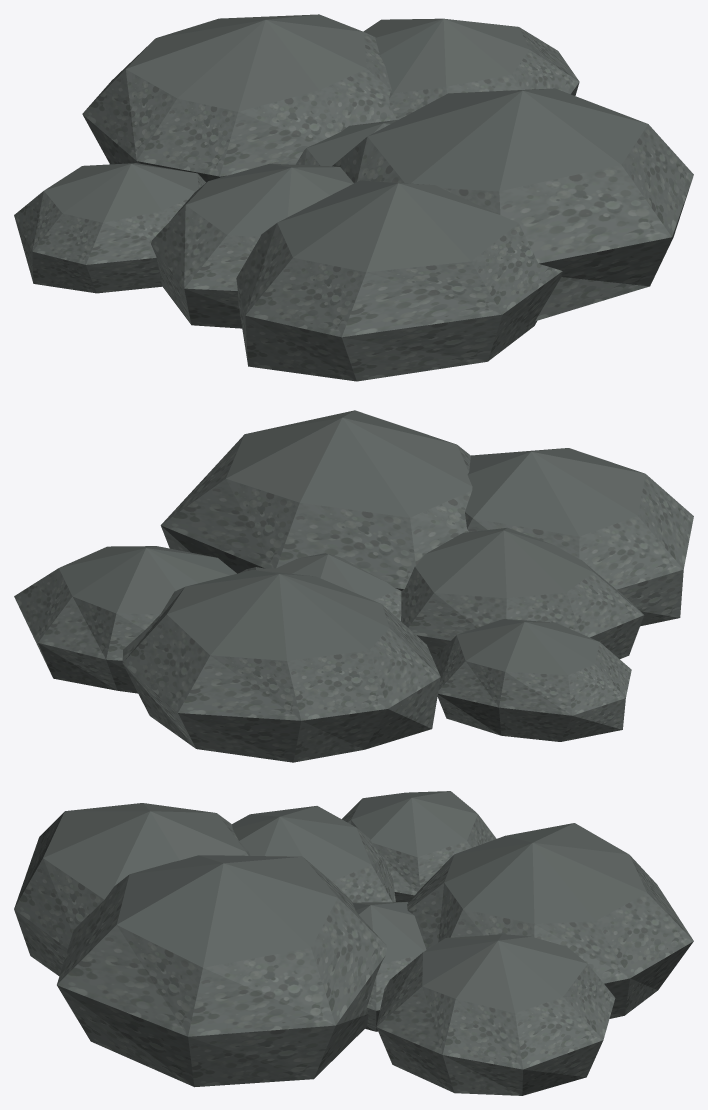
The model's file is en-005_beach_stone_cluster__medium.obj.
3 views of the same model, one above another, from view 1: azimuth 30°, elevation 25°; view 2: azimuth 150°, elevation 25°; view 3: azimuth 270°, elevation 25° (orthographic). The views are drawn at different scales.
Parts seen in each view (by area): view 1: en-005_beach_stone_cluster__medium; view 2: en-005_beach_stone_cluster__medium; view 3: en-005_beach_stone_cluster__medium.
Part boxes in pixels (<box>): en-005_beach_stone_cluster__medium: <box>14,14,693,381</box>; en-005_beach_stone_cluster__medium: <box>14,410,693,762</box>; en-005_beach_stone_cluster__medium: <box>14,791,693,1095</box>.
Bounding box in the file's own units: 1.41 × 0.3885 × 1.48.
1 material, 1 textured.
